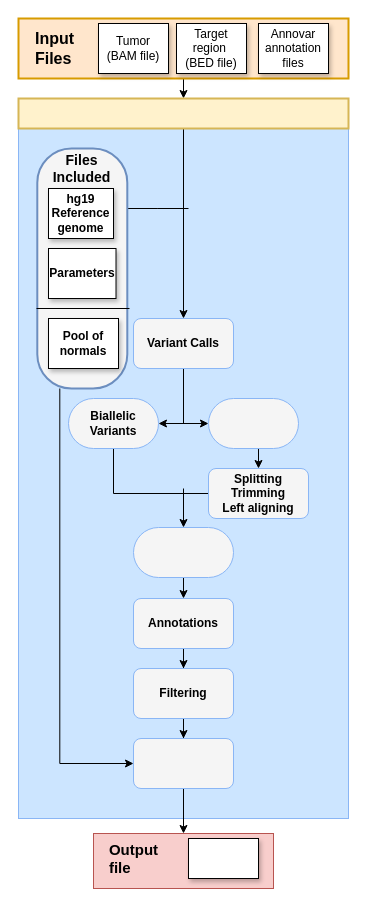
This 366x906 diagram has some shape labels left out. The centre of each missing label's shape, as x and y in pixels:
Germline Filtering: the point at 183,763
Merged Variants: the point at 183,552
Multiallelic Variants: the point at 253,423
PipeIT (Tumor only): the point at 183,113
VCF file: the point at 224,860
